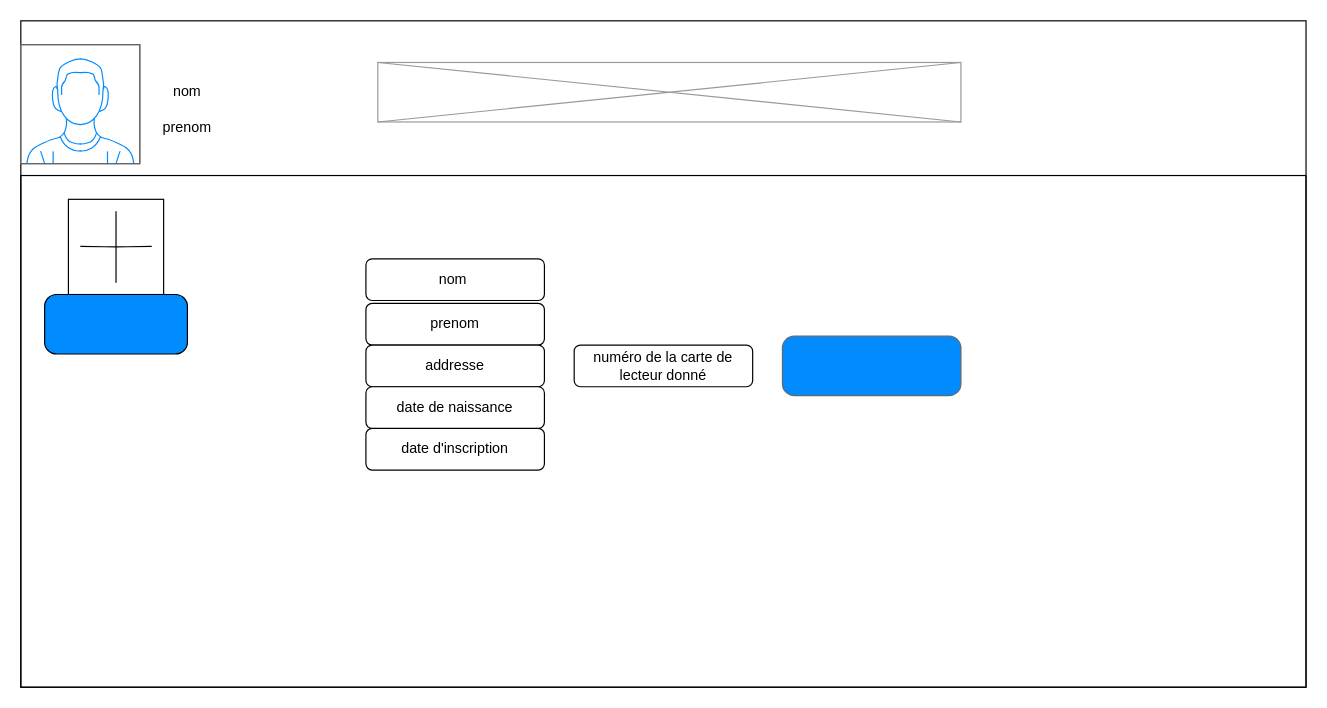
Some shapes in this 1327 by 708 pixel diagram are drawn without their labels. Each missing label, with the centre of its shape:
ajouter: (x=871, y=365)
ajoutez photo: (x=115, y=323)
